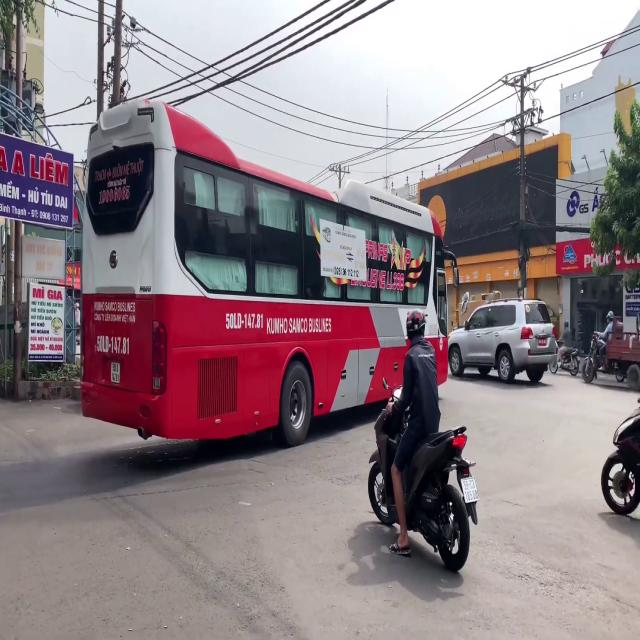bien_trang: (462, 480, 479, 500), (109, 360, 122, 384)
